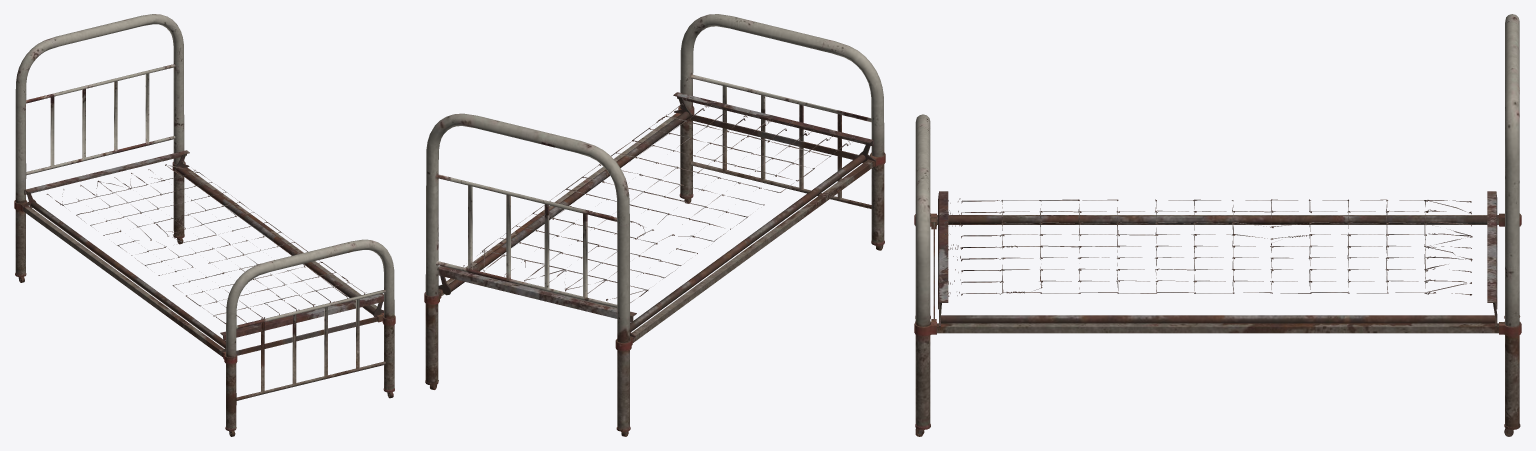
The model's file is bed.glb.
The picture shows the model from 3 angles, left to right: view 1: azimuth 30°, elevation 25°; view 2: azimuth 150°, elevation 25°; view 3: azimuth 270°, elevation 25°; orthographic projection. The views are drawn at different scales.
Parts seen in each view (by area): view 1: old_bed_frame; view 2: old_bed_frame; view 3: old_bed_frame.
Boxes of the visible parts, <box> form: old_bed_frame: <box>14,14,395,436</box>; old_bed_frame: <box>424,14,885,436</box>; old_bed_frame: <box>914,14,1521,436</box>.
Bounding box in the file's own units: 0.9047 × 1.2 × 2.
Materials: 1 (1 with a texture image).
